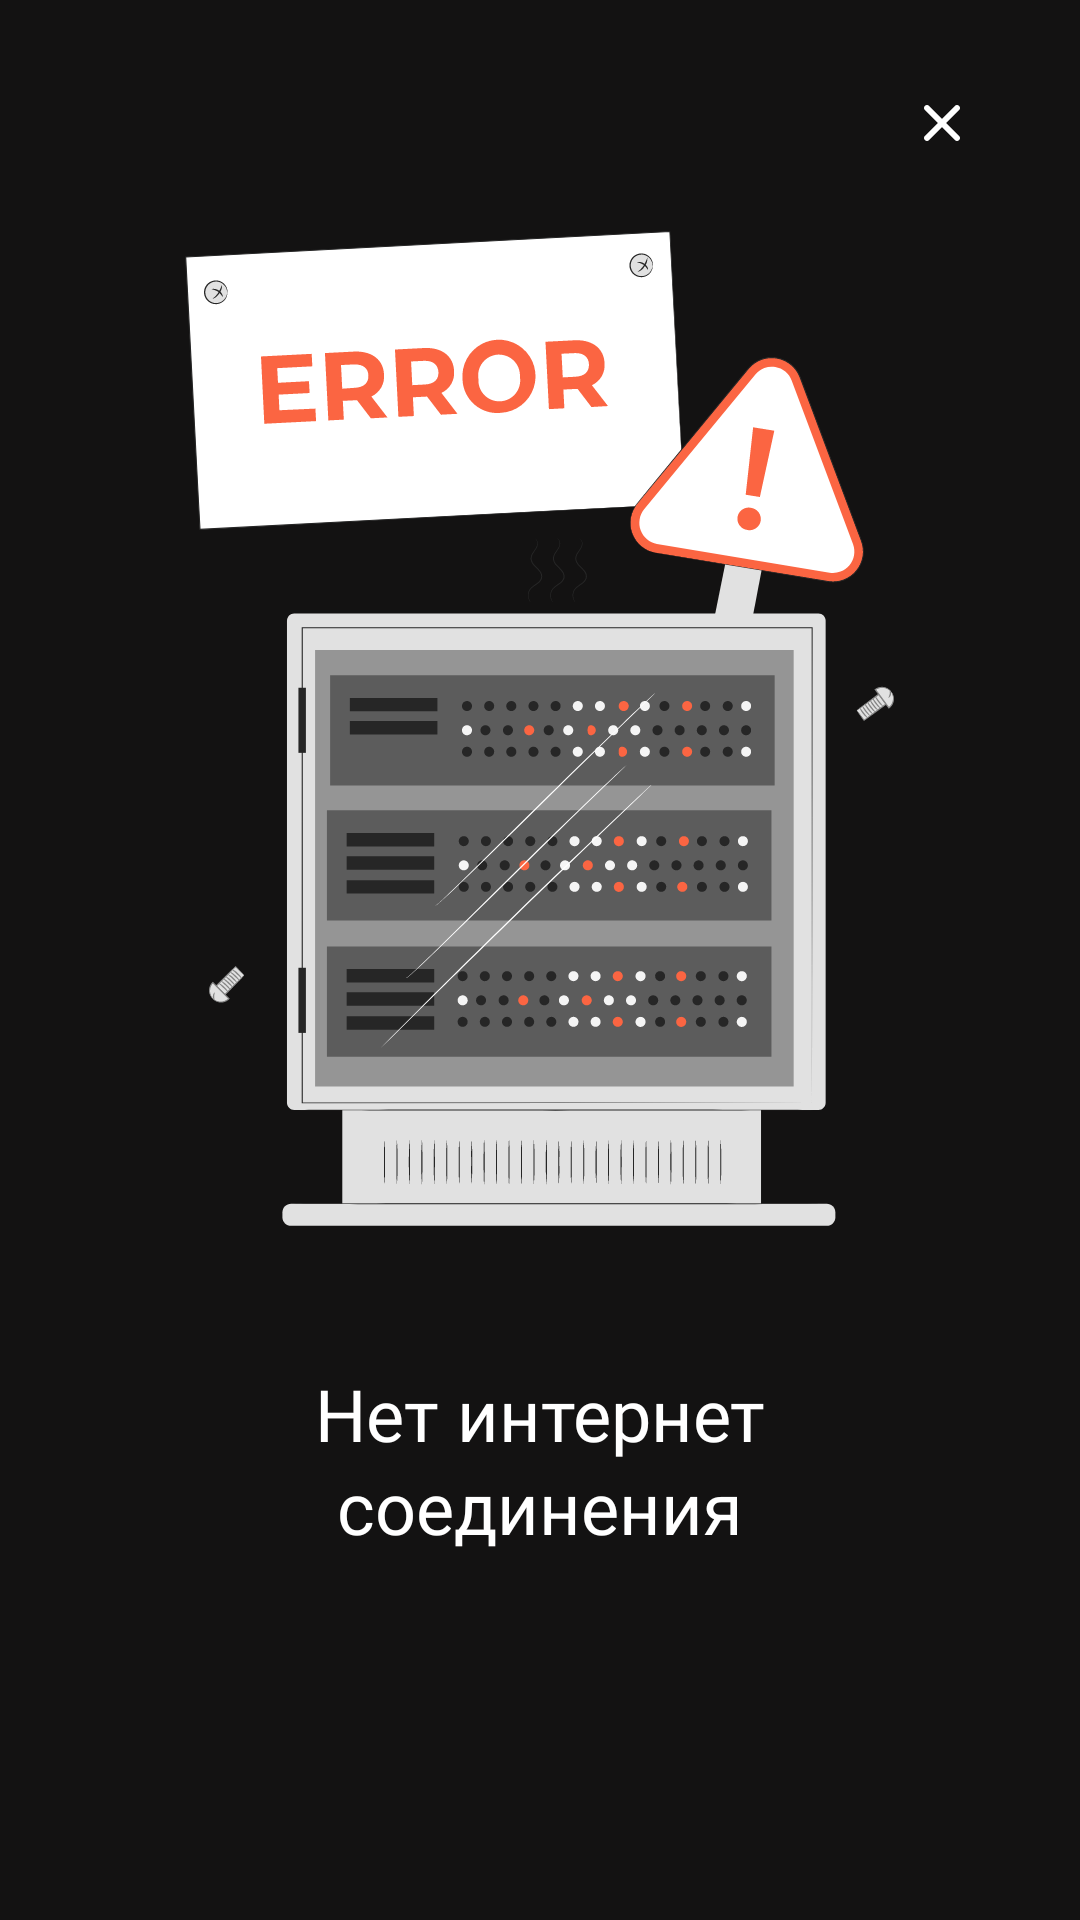

Named icons in this screenshot (1080px×1920px) and their bounding boxes, (x1, y1, x2, y2):
close: (924, 105, 960, 141)
